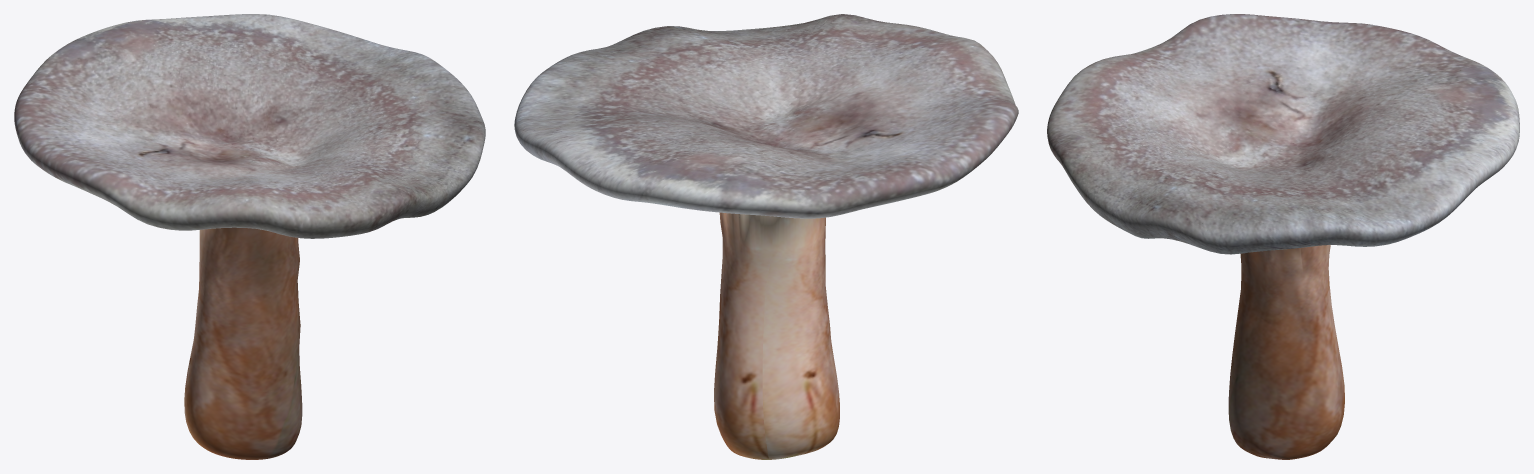
File: SENE_24.fbx
The picture shows the model from 3 angles, left to right: view 1: azimuth 30°, elevation 25°; view 2: azimuth 150°, elevation 25°; view 3: azimuth 270°, elevation 25°; orthographic projection. The views are drawn at different scales.
Visible parts, largest first — view 1: SENE_24; view 2: SENE_24; view 3: SENE_24.
Boxes of the visible parts, x1,y1,x2,y2 form: SENE_24: (14,14,485,459); SENE_24: (514,14,1018,459); SENE_24: (1047,14,1519,459).
Bounding box in the file's own units: 97.76 × 78.32 × 98.53.
1 material, 1 textured.
